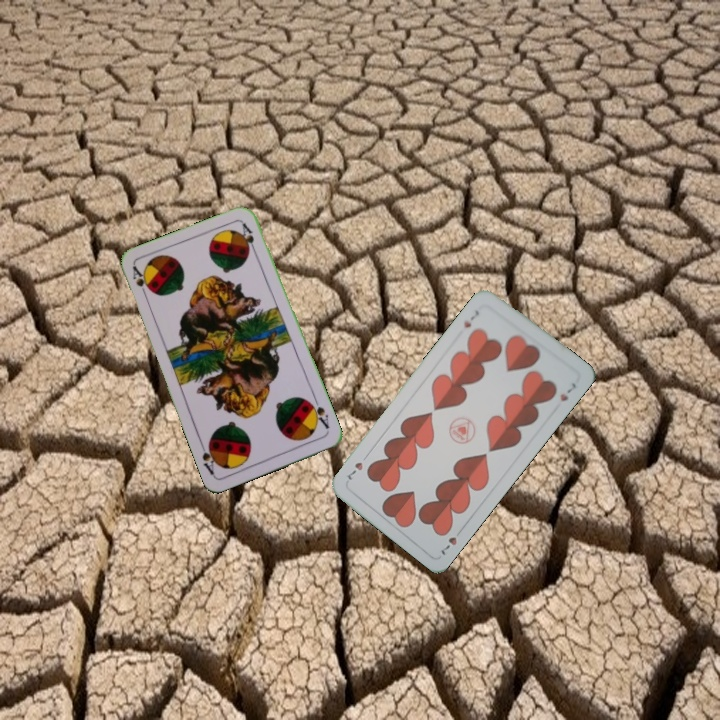H7: (437, 532, 459, 558), (460, 306, 482, 331)
SA: (305, 394, 332, 432), (128, 262, 154, 301)
